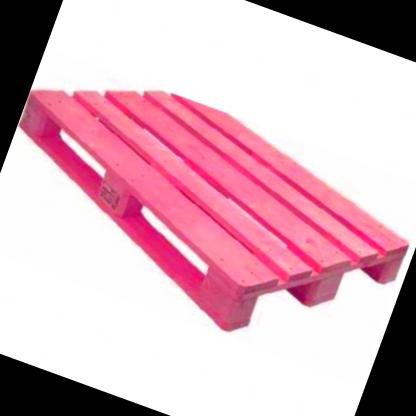BoxFace: (17, 84, 411, 341)
